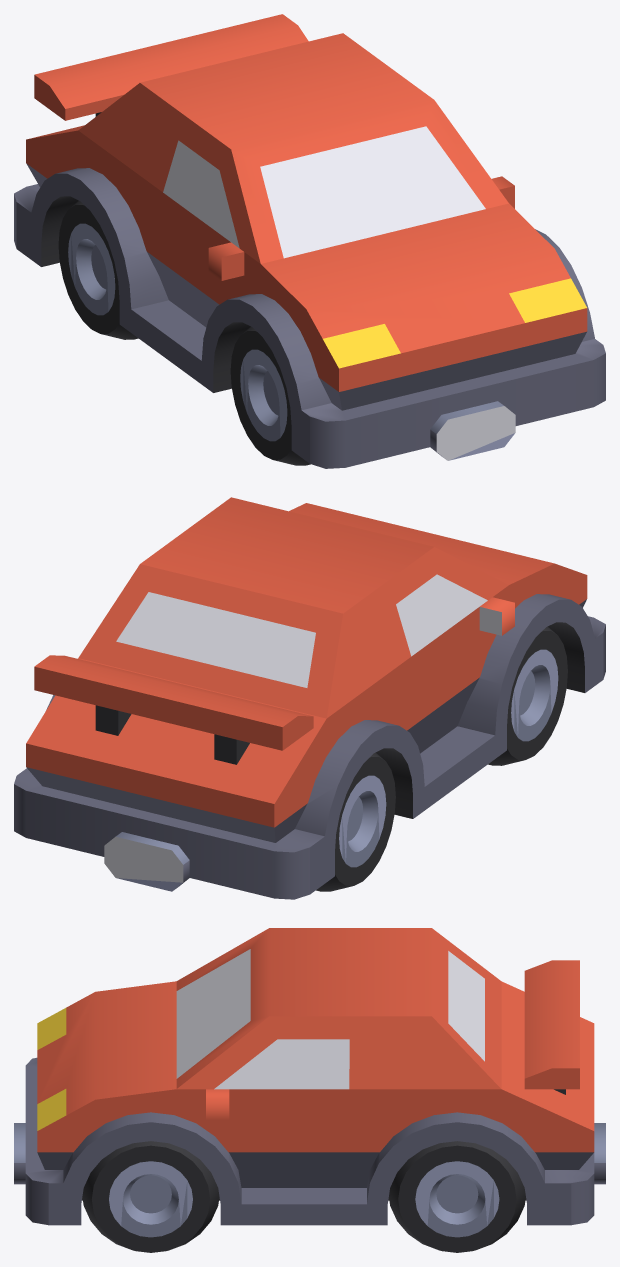
File: sedan-sports.glb
The picture shows the model from 3 angles, top to bottom: view 1: azimuth 30°, elevation 25°; view 2: azimuth 150°, elevation 25°; view 3: azimuth 270°, elevation 25°; orthographic projection. The views are drawn at different scales.
Parts seen in each view (by area): view 1: body, spoiler, wheel-back-right, wheel-front-right; view 2: body, spoiler, wheel-back-right, wheel-front-right; view 3: body, wheel-back-left, wheel-front-left, spoiler.
Part boxes in pixels (<box>): body: <box>14,33,605,468</box>; spoiler: <box>34,14,308,120</box>; wheel-back-right: <box>58,200,138,339</box>; wheel-front-right: <box>230,326,310,465</box>; body: <box>14,497,605,899</box>; spoiler: <box>34,655,313,764</box>; wheel-back-right: <box>316,752,395,891</box>; wheel-front-right: <box>488,626,567,765</box>; body: <box>14,928,605,1225</box>; wheel-back-left: <box>389,1141,525,1252</box>; wheel-front-left: <box>82,1141,219,1252</box>; spoiler: <box>524,960,579,1094</box>.
Bounding box in the file's own units: 1.3 × 1.1 × 2.55.
